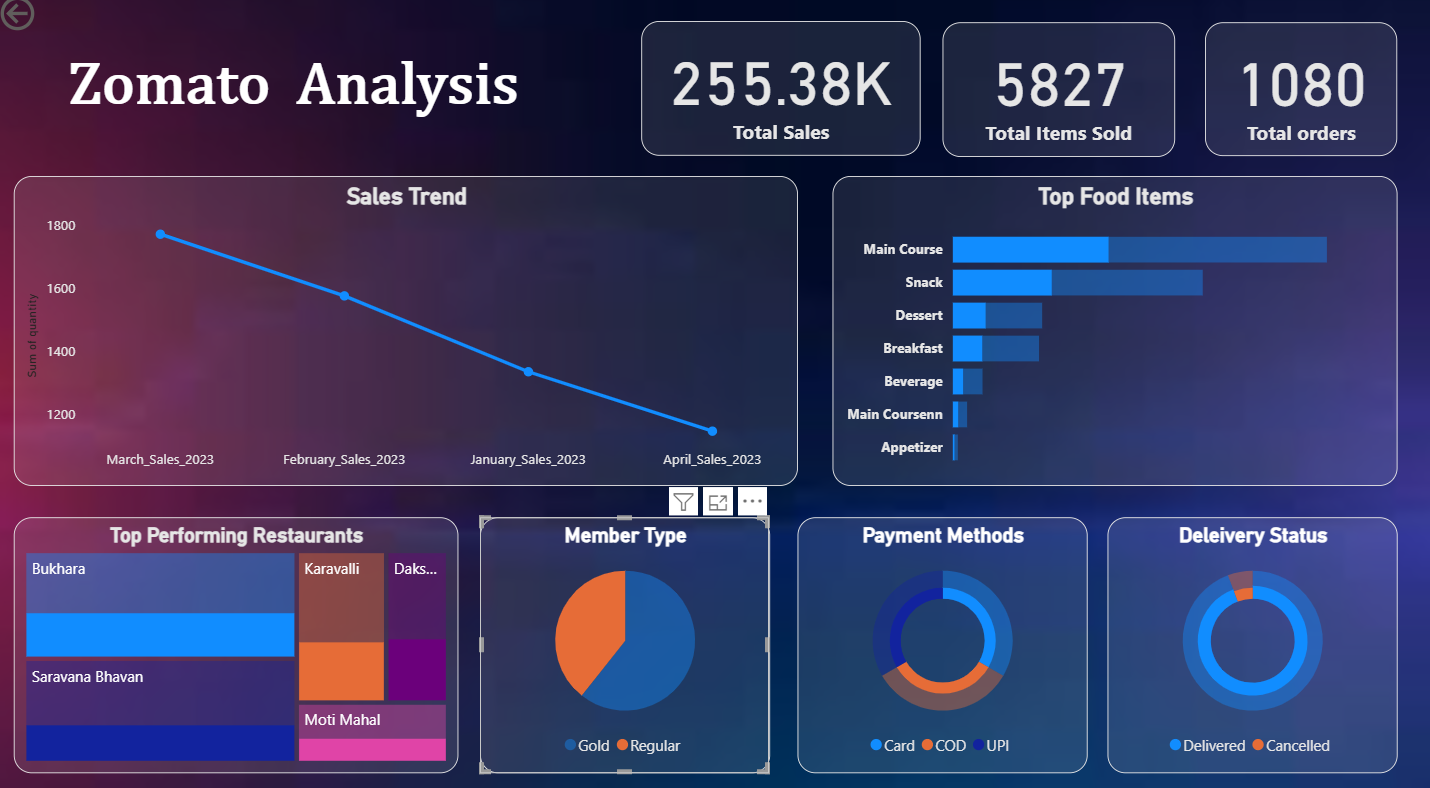

The dashboard page shown, as its layout file describes it:
{"tool":"powerbi","page":{"name":"Page 1","canvas":[1280,720],"ordinal":0},"visuals":[{"type":"clusteredBarChart","title":"Top Food Items","fields":{"Category":["Food_Details.Food_Type"],"Y":["CountNonNull(Orders Data.Fooditem)"]},"box":[745.6,165.3,503.1,276.3],"z":0},{"type":"lineChart","title":"Sales Trend","fields":{"Category":["Orders Data.April_Sales_2023"],"Y":["Sum(Orders Data.quantity)"]},"box":[16.9,165.3,698.5,276.3],"z":1000},{"type":"donutChart","title":"Payment Methods","fields":{"Category":["Orders Data.payment_method"],"Y":["CountNonNull(Customer Details.customer_id)"]},"box":[715.1,468.6,258.1,227.9],"z":2000},{"type":"donutChart","title":"Deleivery Status","fields":{"Category":["Orders Data.deliver_status"],"Y":["CountNonNull(Orders Data.customer_id)"]},"box":[990.5,468.1,258.2,228],"z":3000},{"type":"pieChart","title":"Member Type","fields":{"Category":["Customer Details.member_Type"],"Y":["CountNonNull(Orders Data.customer_id)"]},"box":[431.4,468.6,258.1,227.9],"z":4000},{"type":"treemap","title":"Top Performing Restaurants","fields":{"Group":["Resturant_Details.Resturant_Name"],"Values":["Sum(Orders Data.quantity)"]},"box":[16.9,468.1,395.7,228],"z":5000},{"type":"card","fields":{"Values":["Customer Details.Total orders"]},"box":[1077.4,27.7,171.3,119.4],"z":6000},{"type":"card","fields":{"Values":["Customer Details.Total Items Sold"]},"box":[844.2,27.9,207,119.8],"z":8000},{"type":"actionButton","box":[0,0,100,40],"z":9000},{"type":"card","fields":{"Values":["Avg(Orders Data.order_id)"]},"box":[575.6,26.7,248.8,119.8],"z":10000},{"type":"textbox","box":[60.5,50,448.8,74.4],"z":11000}]}

Visuals, with their boxes in screenshot pixels (x1, y1, x2, y2), scaled from the page's 1280x720 canvas onto the 1430x788 screenshot:
"Top Food Items" clusteredBarChart: rect(833, 181, 1395, 483)
"Sales Trend" lineChart: rect(19, 181, 799, 483)
"Payment Methods" donutChart: rect(799, 513, 1087, 762)
"Deleivery Status" donutChart: rect(1107, 512, 1395, 762)
"Member Type" pieChart: rect(482, 513, 770, 762)
"Top Performing Restaurants" treemap: rect(19, 512, 461, 762)
card - Customer Details.Total orders: rect(1204, 30, 1395, 161)
card - Customer Details.Total Items Sold: rect(943, 31, 1174, 162)
actionButton: rect(0, 0, 112, 44)
card - Avg(Orders Data.order_id): rect(643, 29, 921, 160)
textbox: rect(68, 55, 569, 136)
